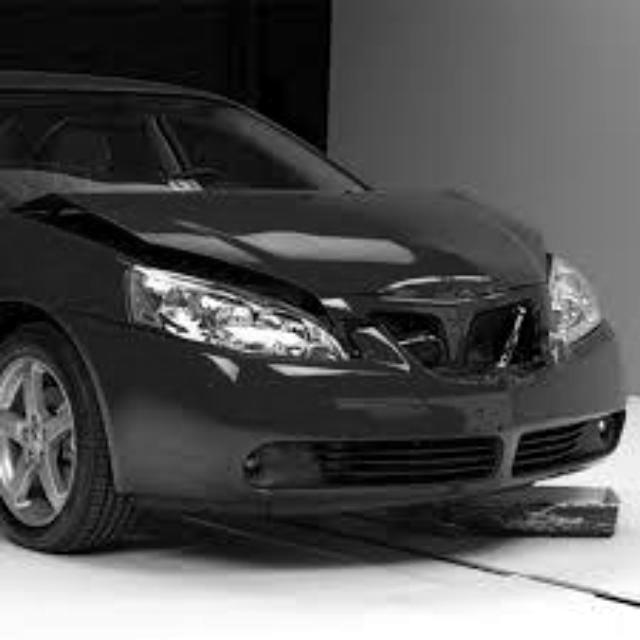bonnet-dent: (94, 180, 560, 299)
